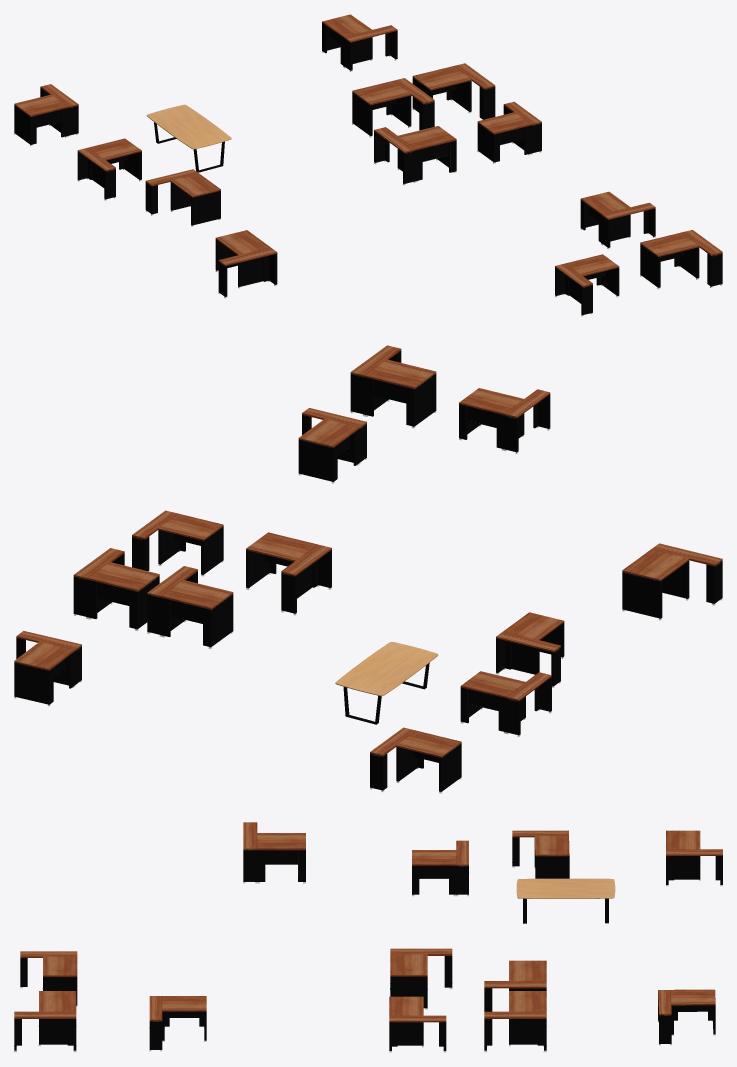
File: escritorios.glb
3 views of the same model, one above another, from view 1: azimuth 30°, elevation 25°; view 2: azimuth 150°, elevation 25°; view 3: azimuth 270°, elevation 25° (orthographic). The views are drawn at different scales.
Visible parts, largest first — view 1: a_mesa.260, a_mesa.248, a_mesa.258, a_mesa.045, a_mesa.044, a_mesa.257, a_mesa.261, a_mesa.255, a_mesa.254, a_mesa.259, a_mesa.256, a_mesa.253 (+1 smaller); view 2: a_mesa.045, a_mesa.248, a_mesa.258, a_mesa.260, a_mesa.257, a_mesa.254, a_mesa.259, a_mesa.253, a_mesa.256, a_mesa.255, a_mesa.261, Object001_Material #1_0.001 (+1 smaller); view 3: a_mesa.045, a_mesa.257, a_mesa.248, a_mesa.260, Object001_Material #1_0.001, a_mesa.044, a_mesa.261, a_mesa.256, a_mesa.255, a_mesa.259, a_mesa.254, a_mesa.253 (+1 smaller).
Boxes of the visible parts, x1,y1,x2,y2 form: a_mesa.260: [374, 126, 456, 185]; a_mesa.248: [640, 230, 722, 289]; a_mesa.258: [352, 78, 434, 137]; a_mesa.045: [215, 230, 277, 298]; a_mesa.044: [145, 169, 220, 226]; a_mesa.257: [412, 63, 495, 119]; a_mesa.261: [477, 101, 541, 163]; a_mesa.255: [14, 84, 78, 146]; a_mesa.254: [580, 191, 655, 249]; a_mesa.259: [322, 14, 397, 71]; a_mesa.256: [77, 138, 141, 200]; a_mesa.253: [555, 254, 619, 316]; a_mesa.045: [622, 543, 722, 620]; a_mesa.248: [350, 345, 436, 428]; a_mesa.258: [147, 566, 233, 648]; a_mesa.260: [246, 532, 331, 615]; a_mesa.257: [73, 548, 159, 630]; a_mesa.254: [298, 408, 366, 483]; a_mesa.259: [14, 631, 81, 706]; a_mesa.253: [459, 388, 550, 453]; a_mesa.256: [460, 671, 551, 736]; a_mesa.255: [370, 727, 461, 793]; a_mesa.261: [132, 510, 223, 576]; Object001_Material #1_0.001: [335, 642, 438, 724]; a_mesa.045: [243, 822, 305, 883]; a_mesa.257: [484, 991, 546, 1052]; a_mesa.248: [14, 991, 76, 1052]; a_mesa.260: [390, 948, 452, 1009]; Object001_Material #1_0.001: [516, 878, 615, 923]; a_mesa.044: [412, 840, 469, 896]; a_mesa.261: [389, 996, 446, 1052]; a_mesa.256: [512, 830, 569, 878]; a_mesa.255: [666, 830, 722, 886]; a_mesa.259: [658, 989, 715, 1045]; a_mesa.254: [149, 996, 206, 1051]; a_mesa.253: [20, 951, 77, 1006].
Size of the model in its own units: 55.91 by 4.62 by 85.7.
Materials: 2 (2 with a texture image).
